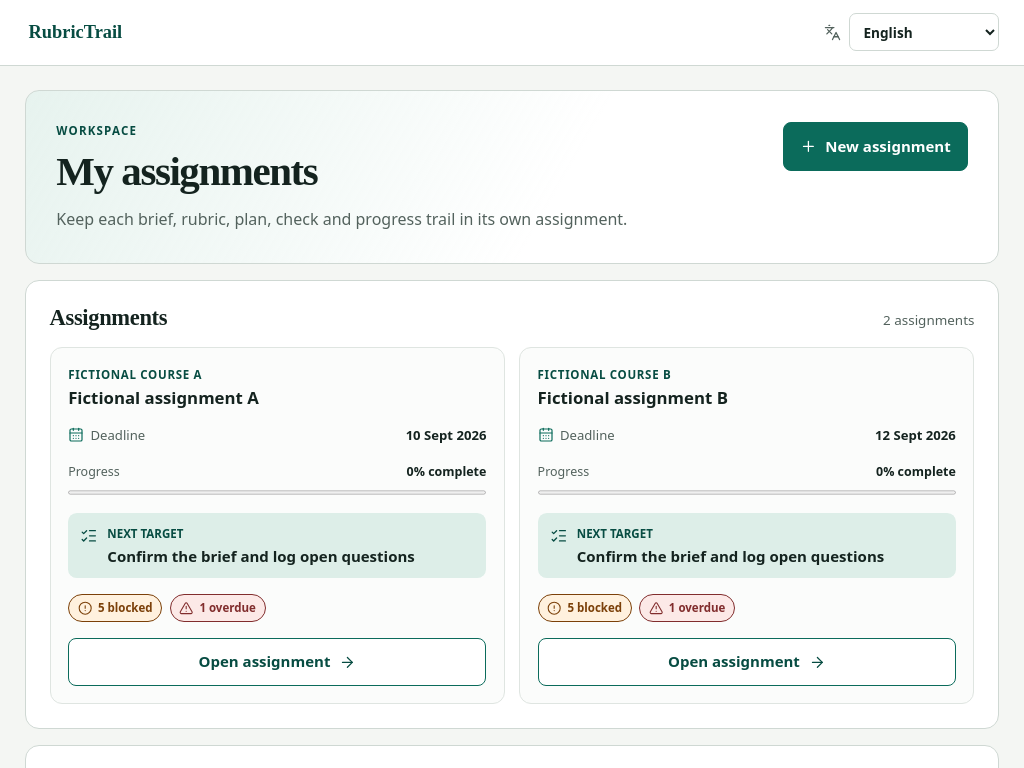
Test case: MultiAssignmentWorkspaceShell › keeps the selected assignment when preference persistence fails
Click the button with aria-label "Open assignment: Fictional assignment B" at (747, 662), box [538,638,956,686]
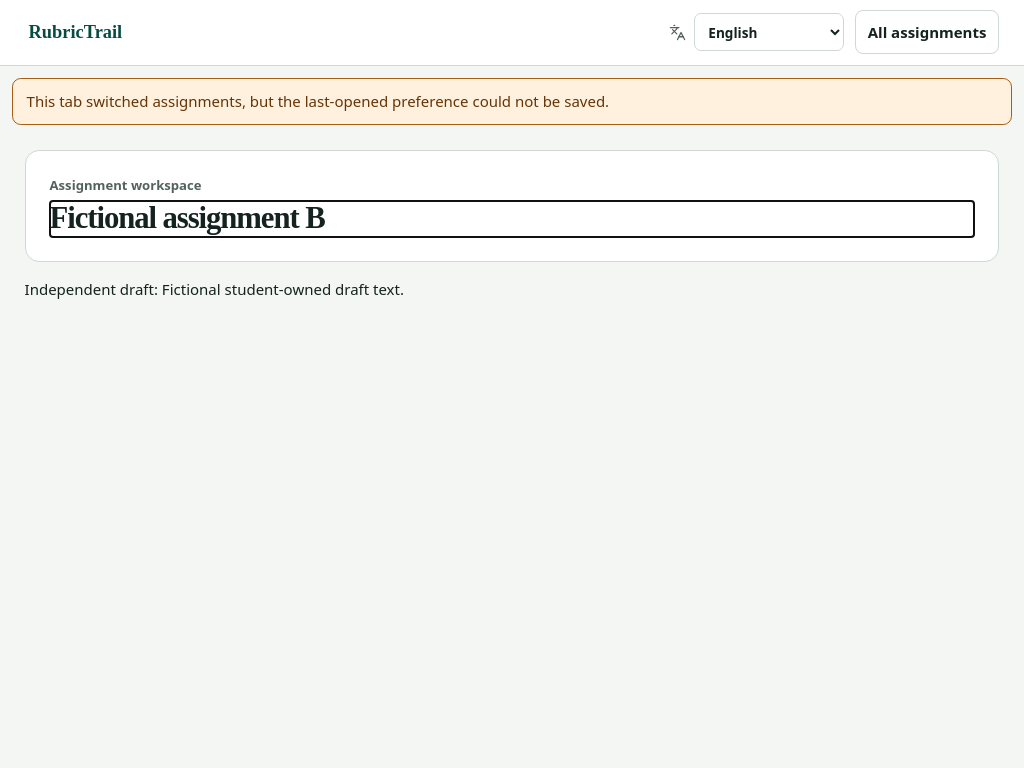
Expected: the heading "Fictional assignment B" is shown, [50,201,325,235]
Expected: the message shows "last-opened preference could not be saved", [27,91,609,111]
